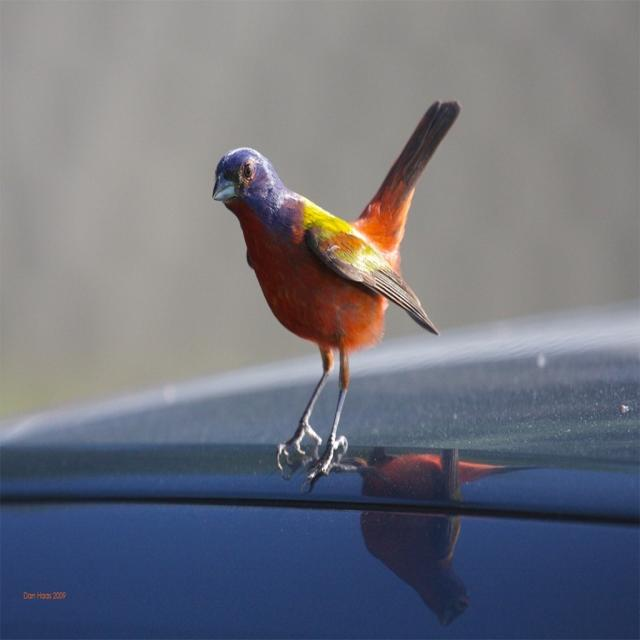bird: (207, 82, 469, 478)
